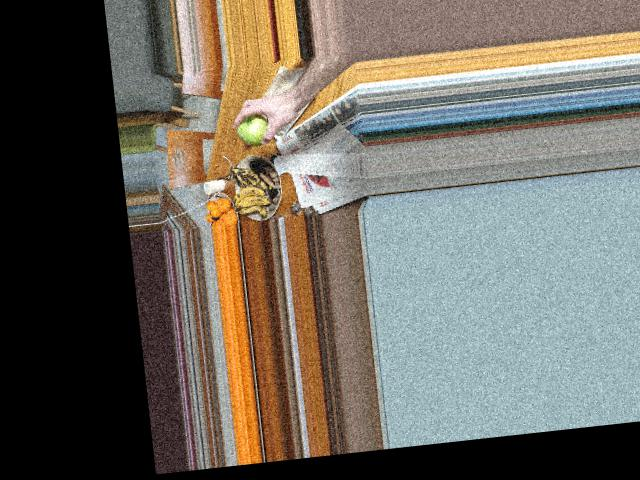apple: (233, 113, 272, 145)
